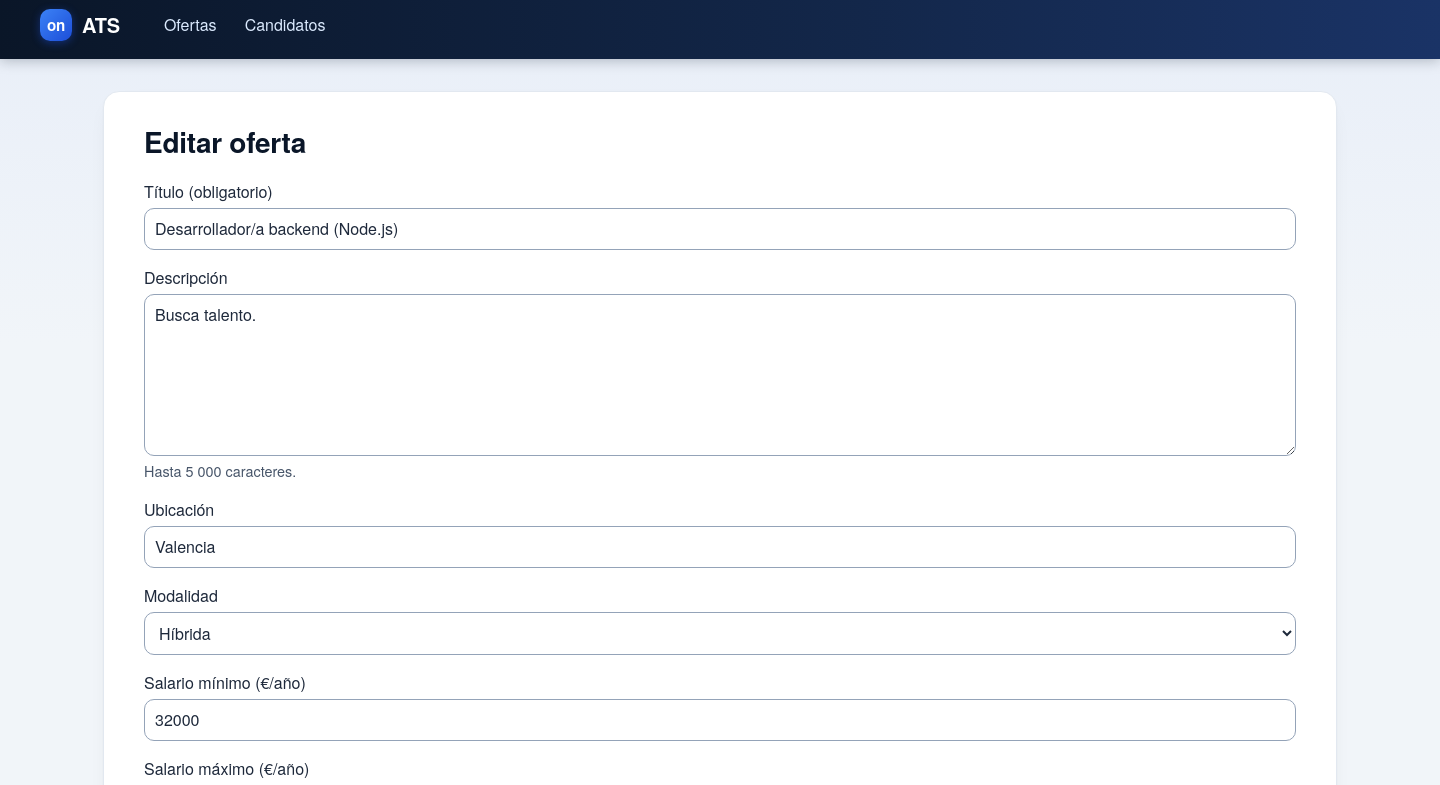
Test case: JobFormScreen · edición › con el título vacío marca el campo y no envía ningún PATCH (EC-20)
Expected: the heading "Editar oferta" is shown, [144,121,306,162]
Clear the field labelled "Título (obligatorio)": (720, 229) [144,208,1296,250]
(page scrolled)
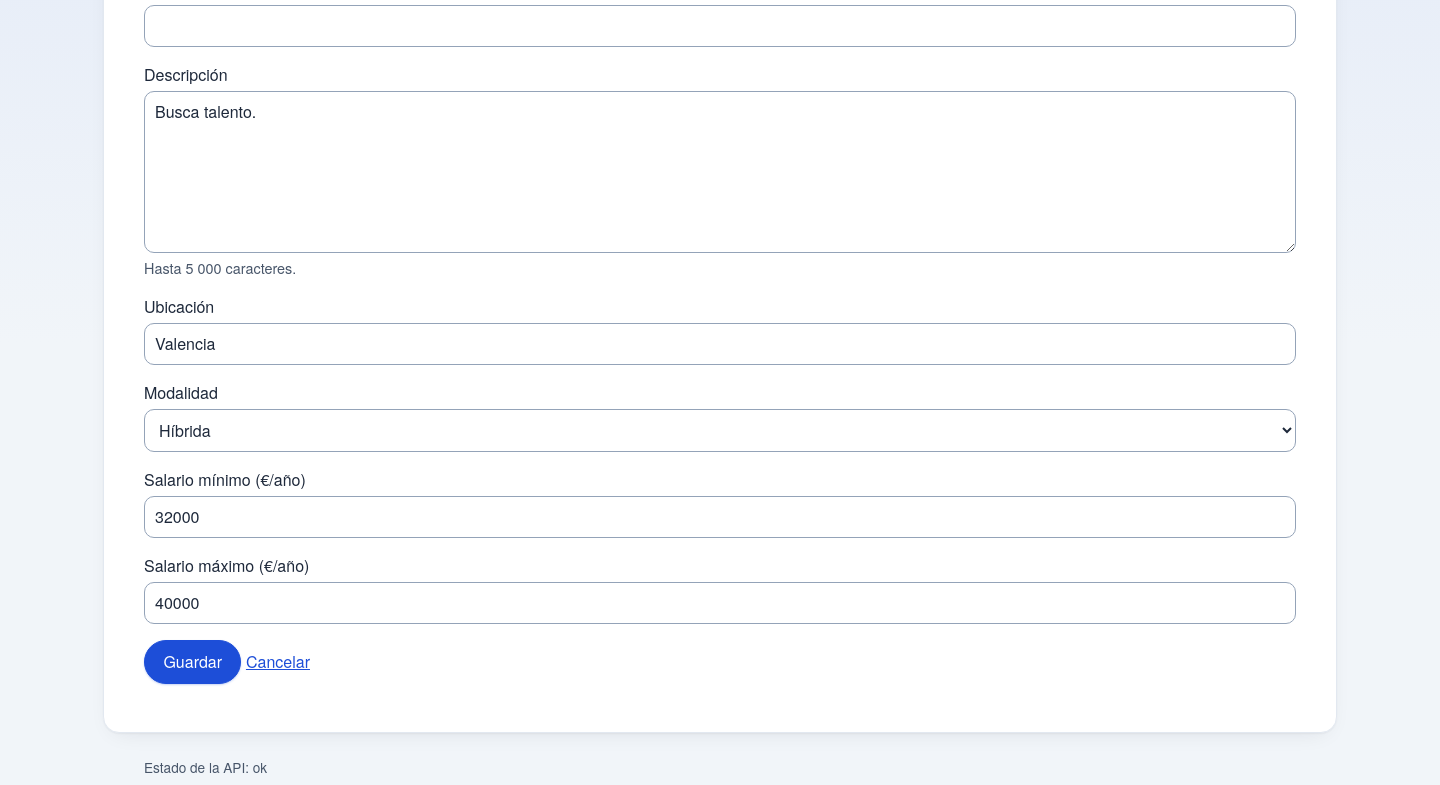
Click the button "Guardar": click(193, 662) [144,640,242,684]
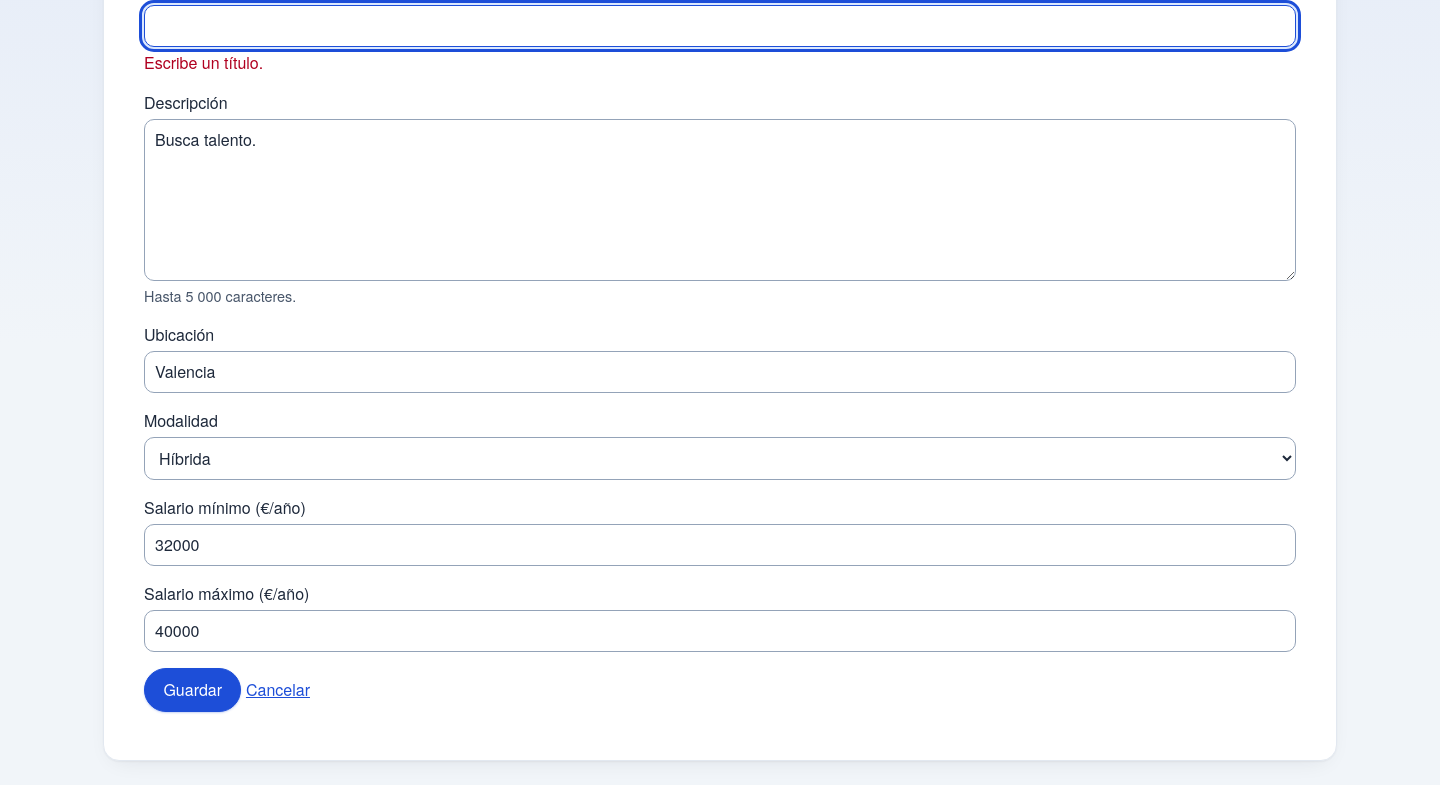
Now the text "Escribe un título." is shown, box [144,51,263,74]
